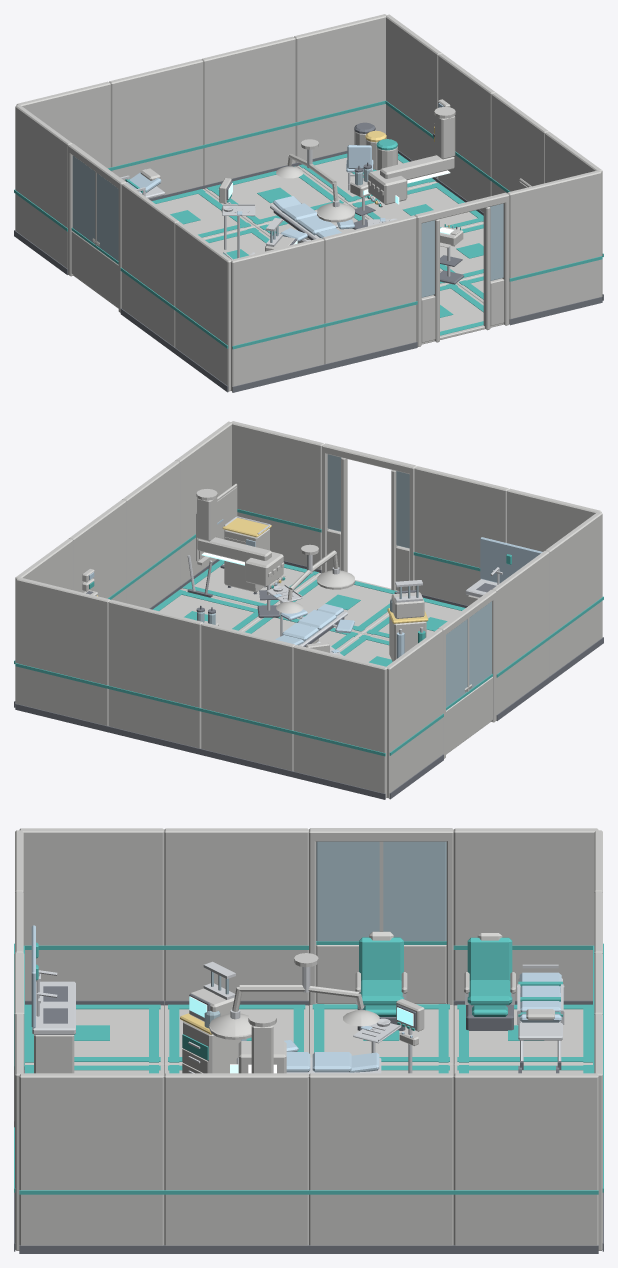
File: operating-theatre.glb
3 views of the same model, one above another, from view 1: azimuth 30°, elevation 25°; view 2: azimuth 150°, elevation 25°; view 3: azimuth 270°, elevation 25° (orthographic). The views are drawn at different scales.
Parts seen in each view (by area): view 1: 016-partition-wall/0, 022-partition-wall/0, 018-partition-wall/0, 021-partition-wall/0, 023-partition-wall/0, 019-partition-wall/0, 030-partition-wall/0, 028-partition-wall/0, 024-partition-wall/0, 025-partition-wall/0, 027-partition-wall/0, 020-glazed-partition-doorway/0 (+29 smaller); view 2: 017-partition-wall/0, 021-partition-wall/0, 019-partition-wall/0, 023-partition-wall/0, 022-partition-wall/0, 018-partition-wall/0, 024-partition-wall/0, 030-partition-wall/0, 028-partition-wall/0, 029-partition-wall/0, 020-glazed-partition-doorway/0, 031-partition-wall/0 (+29 smaller); view 3: 025-partition-wall/0, 031-partition-wall/0, 027-partition-wall/0, 029-partition-wall/0, 028-partition-wall/0, 030-partition-wall/0, 024-partition-wall/0, 026-glazed-partition/1, 026-glazed-partition/0, 001-corridor-floor-tile/0, 003-corridor-floor-tile/0, 000-corridor-floor-tile/0 (+38 smaller).
Part boxes in pixels (x1,y1,x2,y2): 016-partition-wall/0: [231, 238, 324, 391]; 022-partition-wall/0: [507, 170, 601, 323]; 018-partition-wall/0: [322, 215, 416, 364]; 021-partition-wall/0: [201, 36, 295, 185]; 023-partition-wall/0: [294, 14, 386, 162]; 019-partition-wall/0: [109, 59, 203, 194]; 030-partition-wall/0: [175, 222, 231, 391]; 028-partition-wall/0: [122, 183, 179, 346]; 024-partition-wall/0: [15, 104, 72, 268]; 025-partition-wall/0: [386, 14, 442, 178]; 027-partition-wall/0: [438, 53, 495, 212]; 020-glazed-partition-doorway/0: [414, 192, 509, 346]; 017-partition-wall/0: [293, 645, 386, 798]; 021-partition-wall/0: [108, 600, 202, 748]; 019-partition-wall/0: [201, 622, 295, 771]; 023-partition-wall/0: [16, 577, 110, 725]; 022-partition-wall/0: [231, 421, 323, 572]; 018-partition-wall/0: [414, 466, 508, 605]; 024-partition-wall/0: [386, 629, 442, 798]; 030-partition-wall/0: [545, 512, 602, 675]; 028-partition-wall/0: [492, 551, 549, 714]; 029-partition-wall/0: [122, 460, 179, 608]; 020-glazed-partition-doorway/0: [322, 443, 416, 591]; 031-partition-wall/0: [175, 421, 231, 585]; 025-partition-wall/0: [453, 1073, 598, 1245]; 031-partition-wall/0: [19, 1073, 164, 1245]; 027-partition-wall/0: [309, 1073, 453, 1245]; 029-partition-wall/0: [164, 1073, 308, 1245]; 028-partition-wall/0: [164, 828, 308, 1000]; 030-partition-wall/0: [19, 828, 164, 1004]; 024-partition-wall/0: [453, 828, 598, 1000]; 026-glazed-partition/1: [316, 841, 446, 941]; 026-glazed-partition/0: [309, 828, 453, 1004]; 001-corridor-floor-tile/0: [309, 1003, 453, 1064]; 003-corridor-floor-tile/0: [25, 1005, 164, 1064]; 000-corridor-floor-tile/0: [453, 1005, 592, 1064].
Size of the model in its own units: 8.15 by 2.91 by 8.15.
